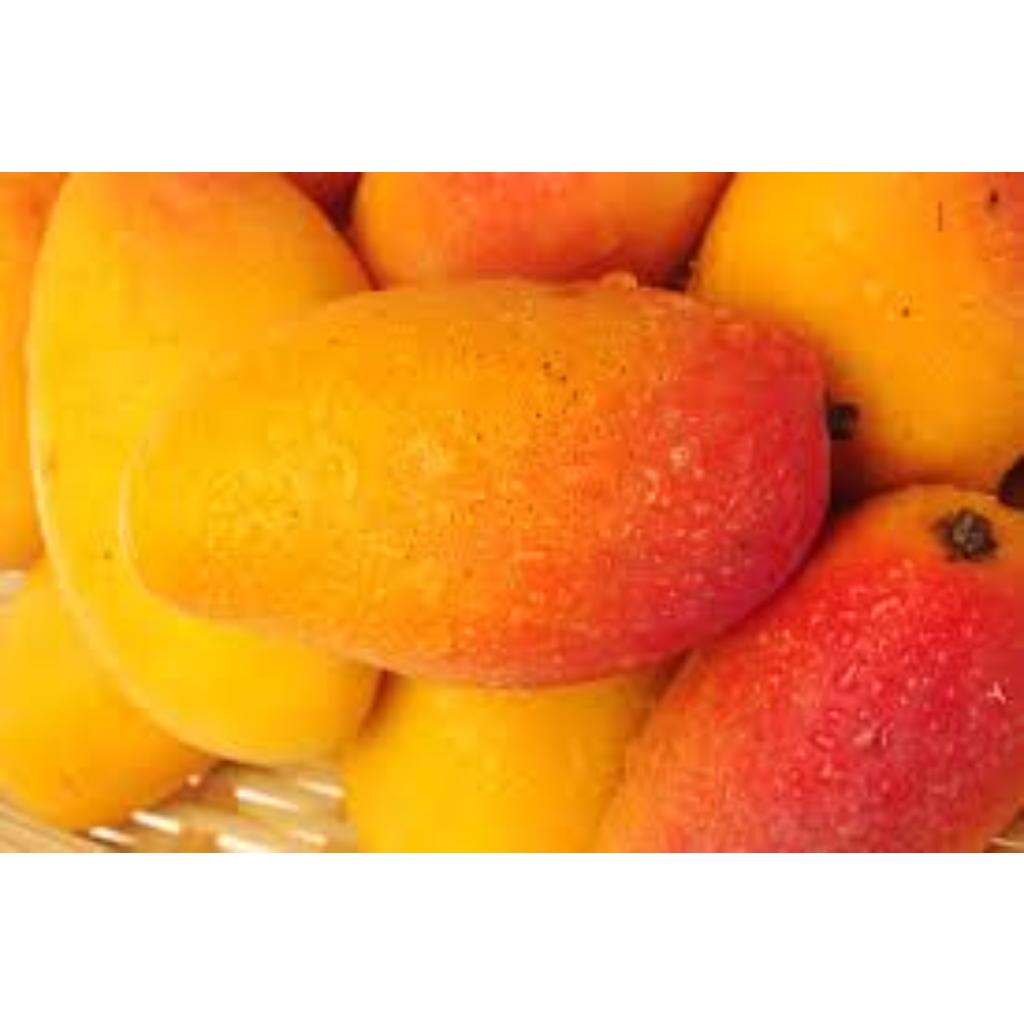mango: (127, 275, 830, 677), (22, 171, 383, 757), (586, 486, 1023, 850), (702, 171, 1024, 498), (1, 541, 216, 836), (349, 668, 668, 852), (352, 171, 748, 286)
